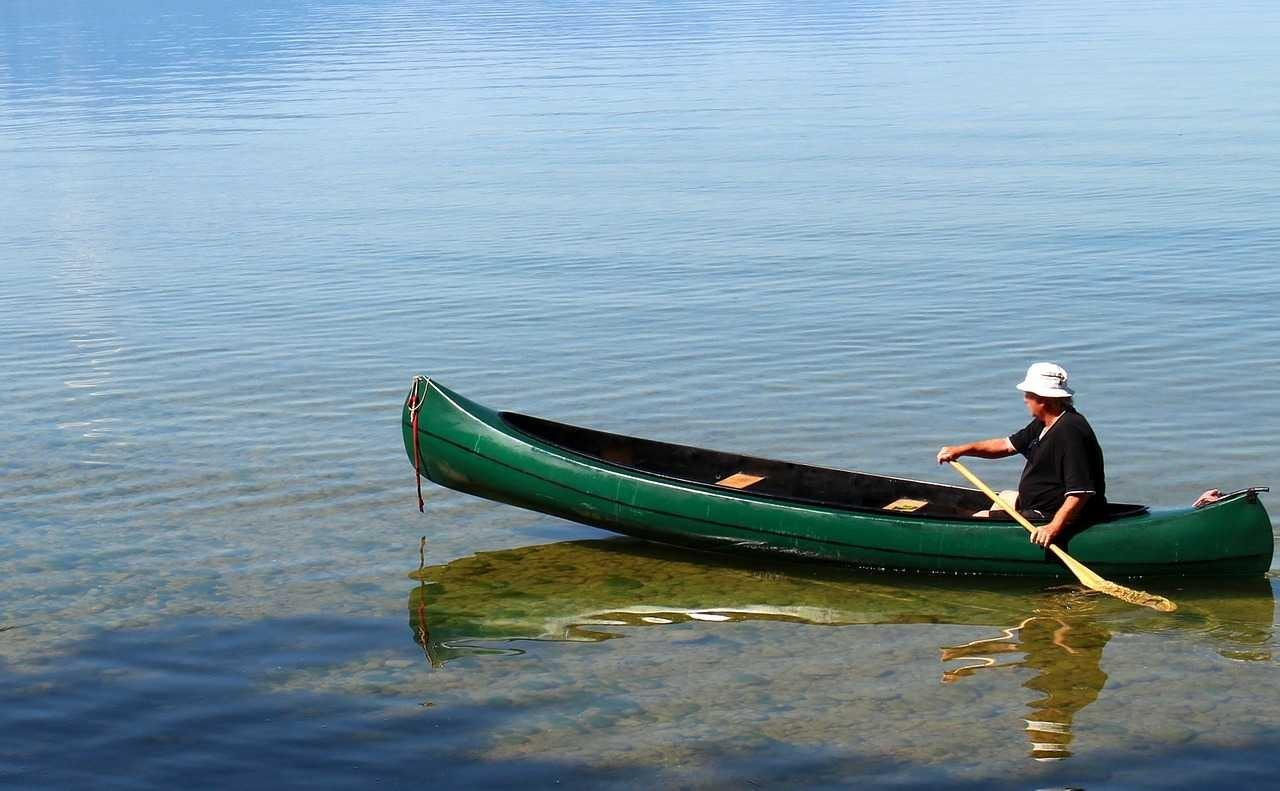kayak: (403, 378, 1272, 590)
